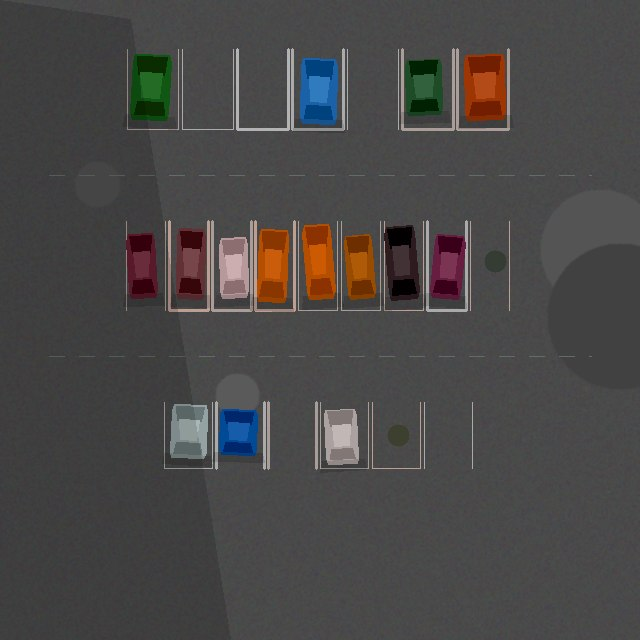space-empty: (182, 49, 233, 129), (237, 49, 288, 129), (347, 49, 398, 129), (470, 221, 509, 310), (268, 402, 316, 468), (372, 402, 420, 468), (424, 402, 472, 468)
space-occupied: (127, 49, 178, 129), (292, 49, 343, 129), (402, 49, 453, 129), (457, 49, 508, 129), (126, 221, 165, 310), (169, 221, 208, 310), (212, 221, 251, 310), (255, 221, 294, 310), (298, 221, 337, 310), (341, 221, 380, 310), (384, 221, 423, 310), (427, 221, 466, 310), (164, 402, 212, 468), (216, 402, 264, 468), (320, 402, 368, 468)
